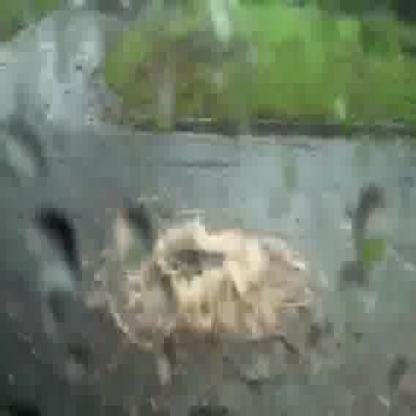drainage overflow-repair-: (124, 231, 274, 313)
